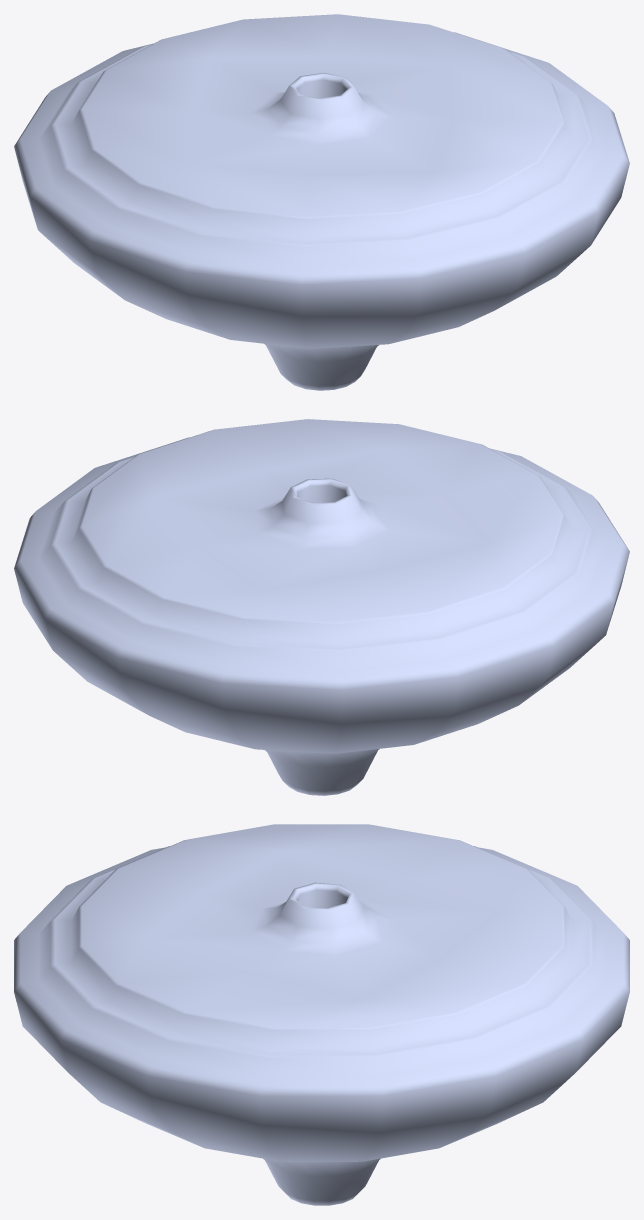
Rendered from Lifter_01.fbx.
The picture shows the model from 3 angles, top to bottom: view 1: azimuth 30°, elevation 25°; view 2: azimuth 150°, elevation 25°; view 3: azimuth 270°, elevation 25°; orthographic projection.
Visible parts, largest first — view 1: Lifter_01; view 2: Lifter_01; view 3: Lifter_01.
Boxes of the visible parts, x1=… form: Lifter_01: x1=14, y1=14, x2=629, y2=390; Lifter_01: x1=14, y1=419, x2=629, y2=795; Lifter_01: x1=14, y1=824, x2=629, y2=1205.
Bounding box in the file's own units: 1627 × 860 × 1627.
